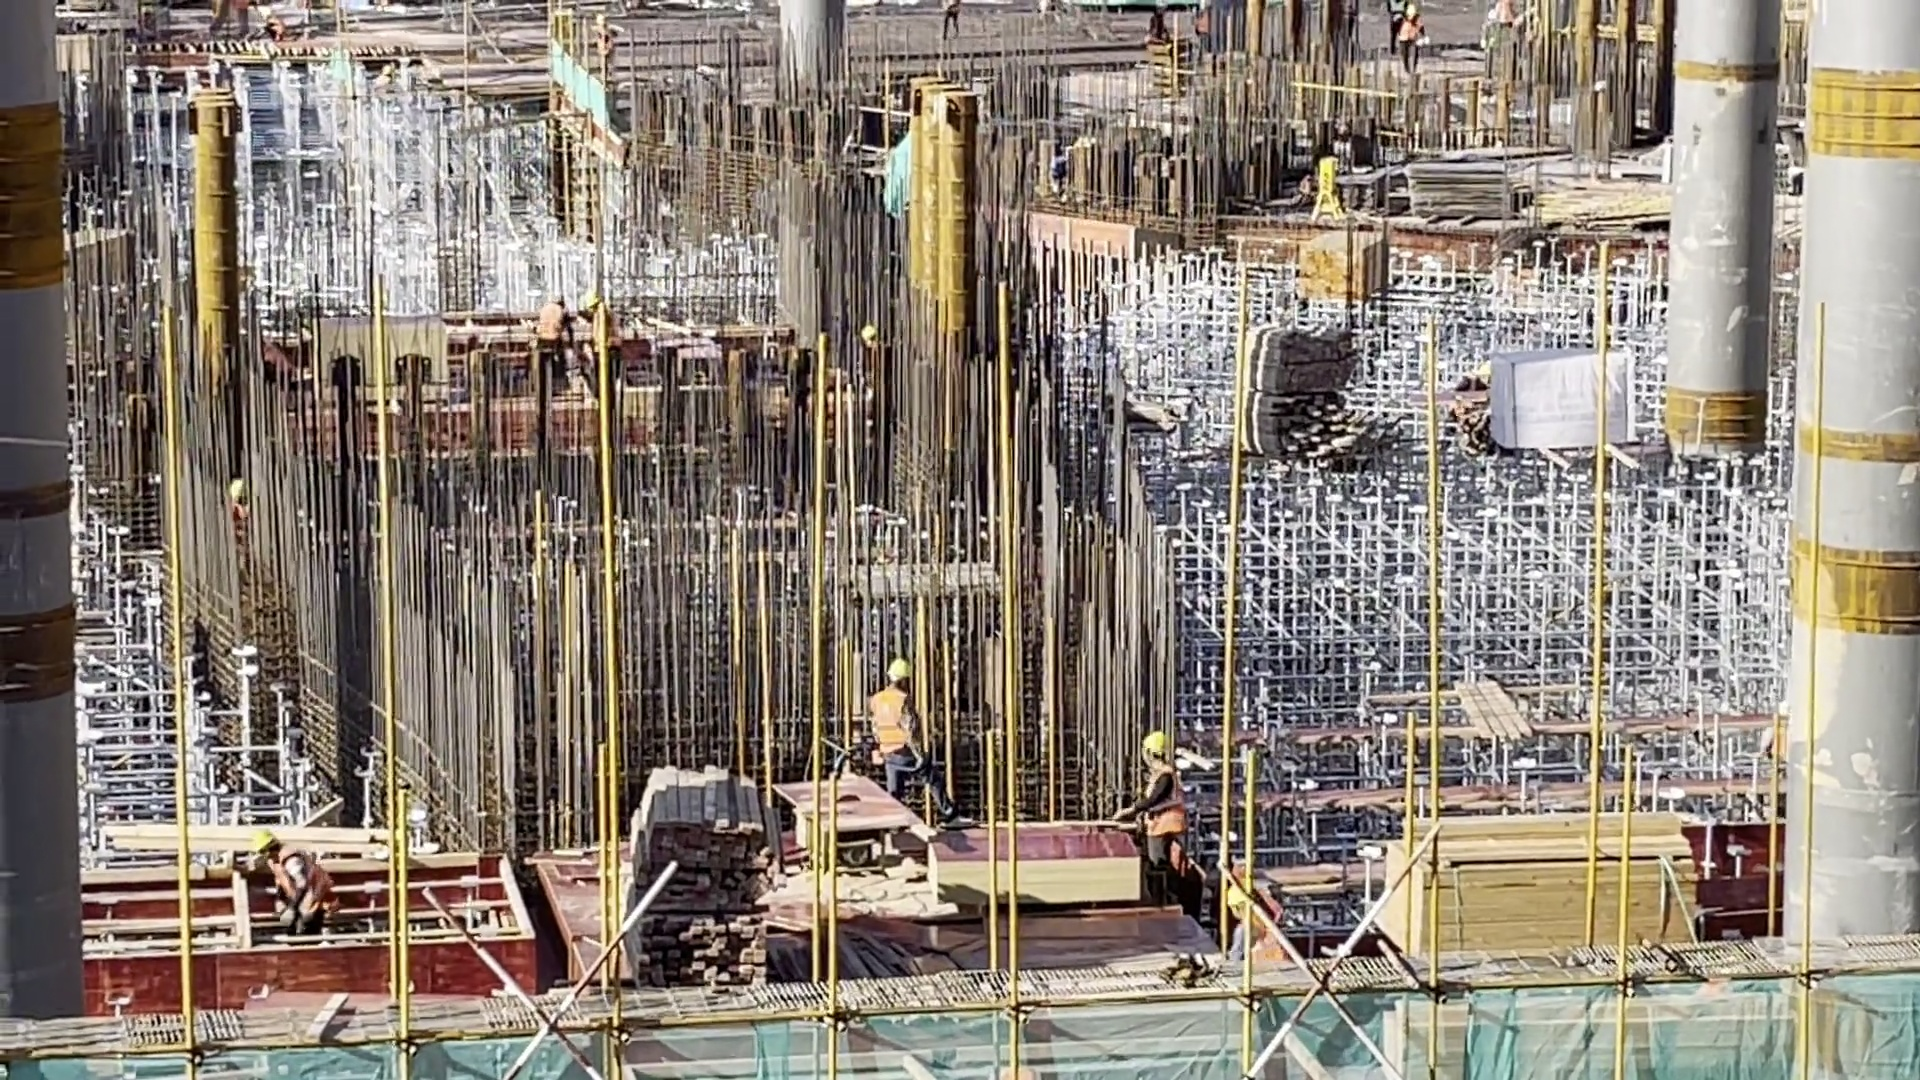board: (925, 817, 1144, 911)
ebox: (1308, 152, 1345, 226)
helmet: (1141, 730, 1169, 757), (249, 830, 274, 858), (887, 659, 917, 683), (859, 326, 874, 342)
person: (872, 658, 980, 834), (1109, 730, 1191, 905), (240, 828, 343, 934), (1389, 2, 1430, 75), (536, 294, 572, 351), (1477, 7, 1499, 75), (1189, 1, 1213, 48), (234, 1, 260, 39), (939, 1, 962, 43), (206, 1, 235, 35), (858, 327, 879, 351)
vest: (271, 842, 341, 923), (867, 690, 913, 758), (1145, 767, 1184, 835), (538, 302, 560, 339)
wood: (1384, 811, 1699, 958), (626, 765, 774, 995), (1295, 230, 1351, 309)
